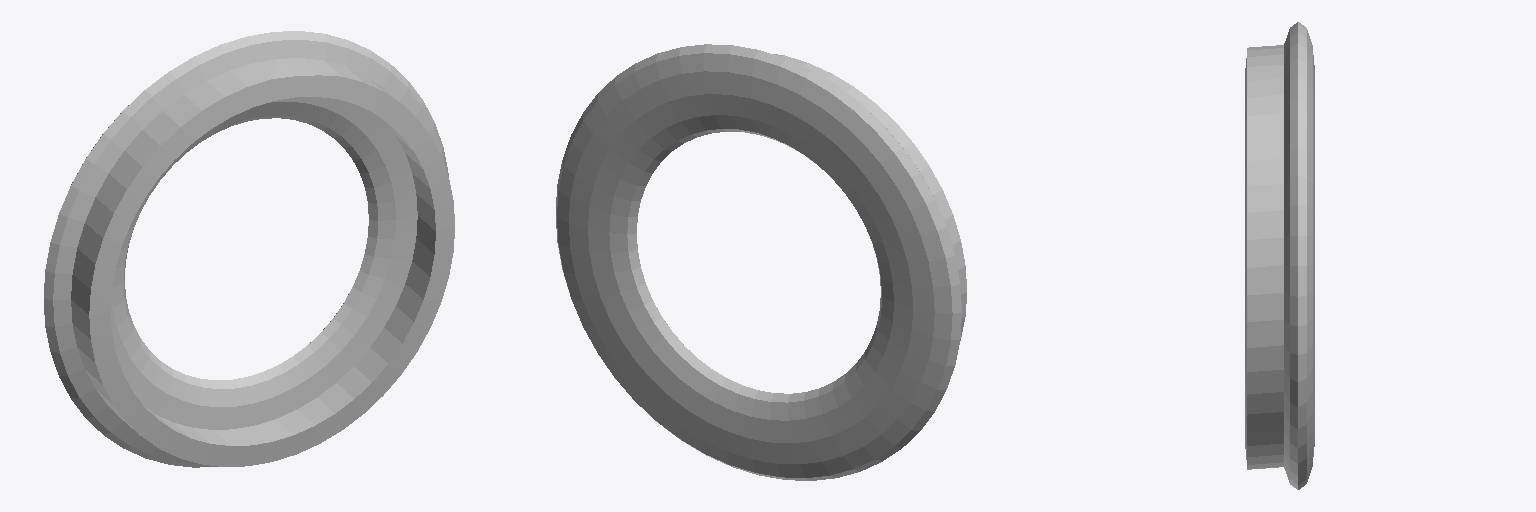
Rendered from Trou.obj.
3 renders of one model, left to right at view 1: azimuth 30°, elevation 25°; view 2: azimuth 150°, elevation 25°; view 3: azimuth 270°, elevation 25°, orthographic.
Parts seen in each view (by area): view 1: Torus.003; view 2: Torus.003; view 3: Torus.003.
Part boxes in pixels (left/top/right/bottom): Torus.003: left=44, top=31, right=454, bottom=467; Torus.003: left=556, top=44, right=966, bottom=480; Torus.003: left=1245, top=22, right=1314, bottom=489.
Bounding box in the file's own units: 35.79 × 35.79 × 5.3.